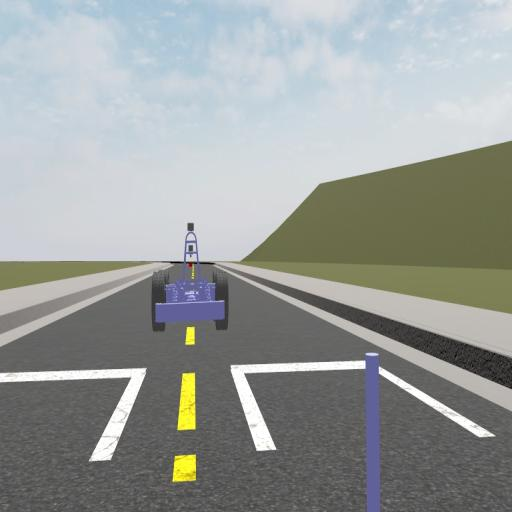ERP-42: (153, 222, 229, 330)
